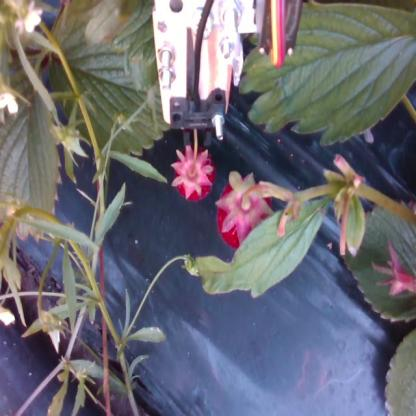ripe: (220, 180, 276, 246), (173, 147, 220, 201)
